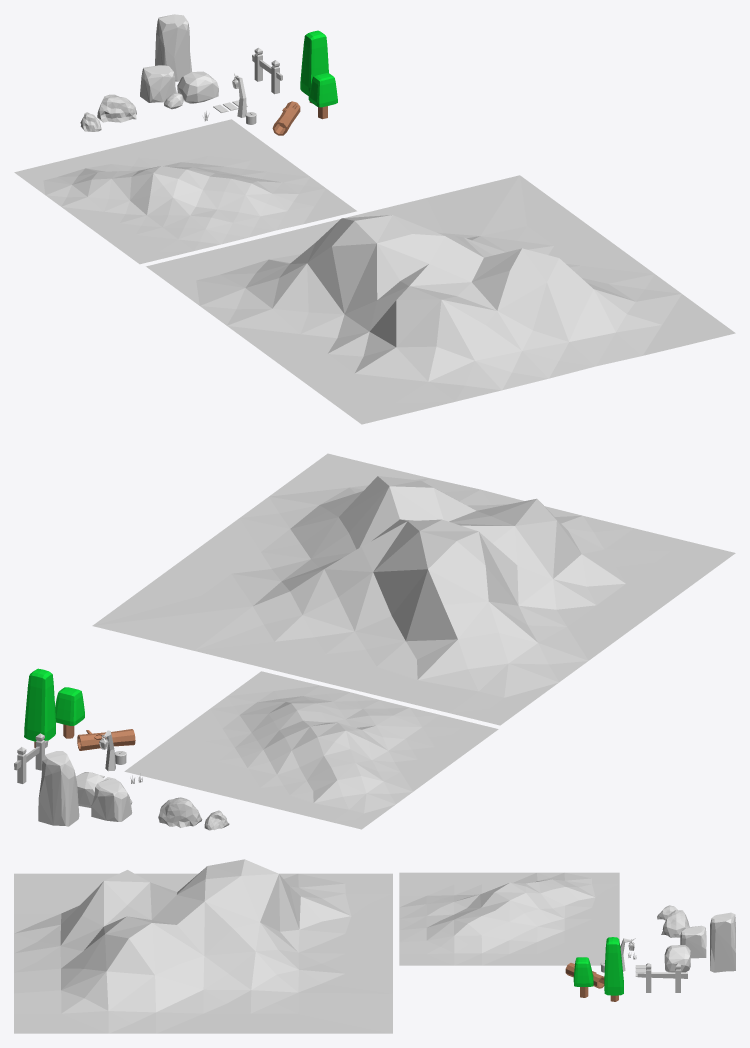
Rendered from Other_G.fbx.
The picture shows the model from 3 angles, top to bottom: view 1: azimuth 30°, elevation 25°; view 2: azimuth 150°, elevation 25°; view 3: azimuth 270°, elevation 25°; orthographic projection. The views are drawn at different scales.
Parts seen in each view (by area): view 1: Small Hill 2, Small Hill, Rock3.002, Cube, Rock3.001, Rock1, Cube.001, Icosphere, Cube.002; view 2: Small Hill 2, Small Hill, Rock3.002, Cube, Rock3.001, Cube.001, Icosphere, Cylinder.001, Cube.002, Rock1; view 3: Small Hill 2, Small Hill, Rock3.002, Cube, Rock3.001, Rock1, Cube.001, Cube.002, Icosphere.
Part boxes in pixels (x1,y1,x2,y2): Small Hill 2: (146,175,735,424); Small Hill: (14,119,356,264); Rock3.002: (155,14,191,81); Cube: (300,30,328,103); Rock3.001: (140,65,176,102); Rock1: (177,71,218,103); Cube.001: (308,73,337,119); Icosphere: (97,94,136,122); Cube.002: (252,47,282,94); Small Hill 2: (92,453,735,725); Small Hill: (124,671,498,829); Rock3.002: (38,751,79,826); Cube: (24,668,55,747); Rock3.001: (91,779,132,821); Cube.001: (55,687,84,738); Icosphere: (158,797,202,827); Cylinder.001: (77,729,135,750); Cube.002: (14,733,48,783); Rock1: (76,772,104,807); Small Hill 2: (14,859,392,1033); Small Hill: (399,872,619,965); Rock3.002: (710,912,735,972); Cube: (604,937,623,1001); Rock3.001: (680,925,706,958); Rock1: (664,945,690,972); Cube.001: (573,957,593,997); Cube.002: (637,963,687,992); Icosphere: (661,910,689,937).
Bounding box in the file's own units: 2938 × 612 × 5564.
